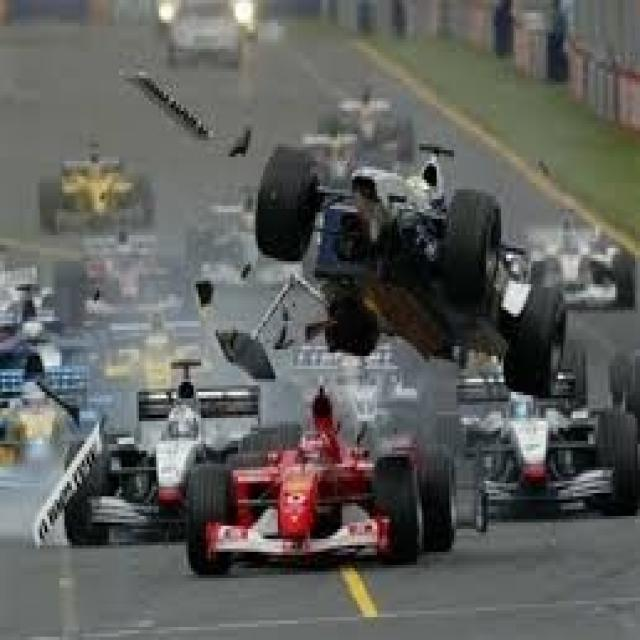accident: (223, 97, 589, 410)
